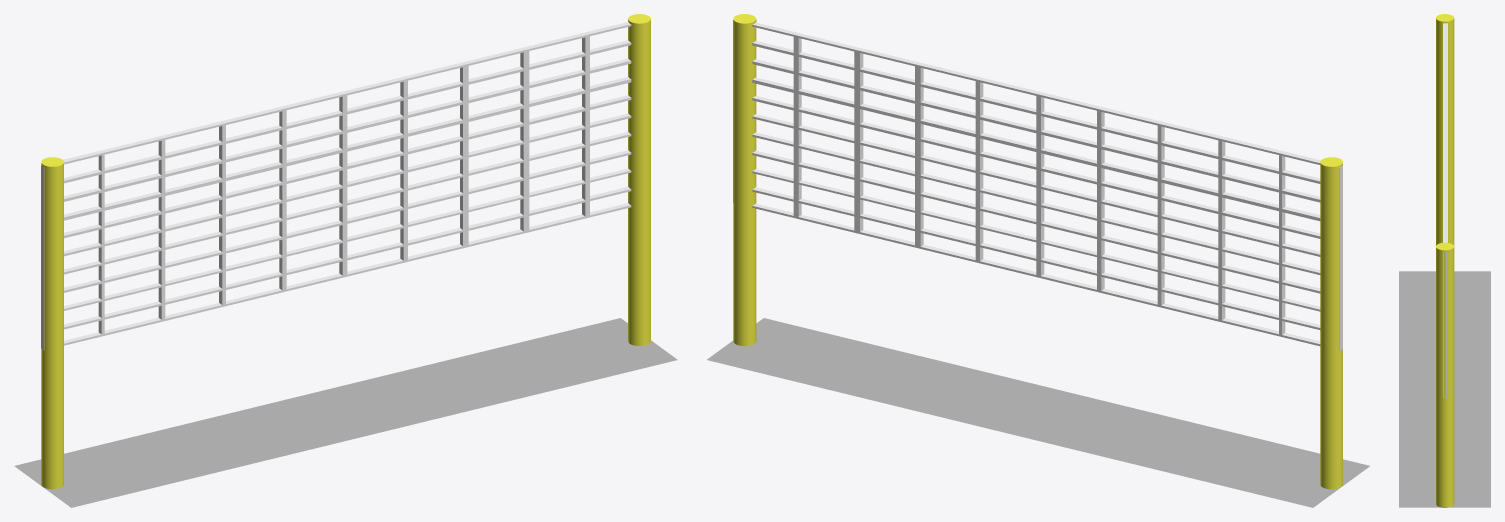
File: NET.glb
The picture shows the model from 3 angles, left to right: view 1: azimuth 30°, elevation 25°; view 2: azimuth 150°, elevation 25°; view 3: azimuth 270°, elevation 25°; orthographic projection. The views are drawn at different scales.
Parts seen in each view (by area): view 1: pPlane2, pPlane1, pCylinder2, pCylinder1; view 2: pPlane2, pPlane1, pCylinder2, pCylinder1; view 3: pPlane1, pCylinder2, pCylinder1, pPlane2.
Boxes of the visible parts, <box> form: pPlane2: <box>41,22,631,350</box>; pPlane1: <box>14,318,677,507</box>; pCylinder2: <box>628,14,650,345</box>; pCylinder1: <box>41,157,63,489</box>; pPlane2: <box>733,20,1342,350</box>; pPlane1: <box>707,318,1369,507</box>; pCylinder2: <box>733,14,756,346</box>; pCylinder1: <box>1320,157,1342,489</box>; pPlane1: <box>1399,271,1490,507</box>; pCylinder2: <box>1436,242,1454,507</box>; pCylinder1: <box>1436,14,1454,245</box>; pPlane2: <box>1443,23,1447,398</box>.
Size of the model in its own units: 0.061 by 0.031 by 0.01.
